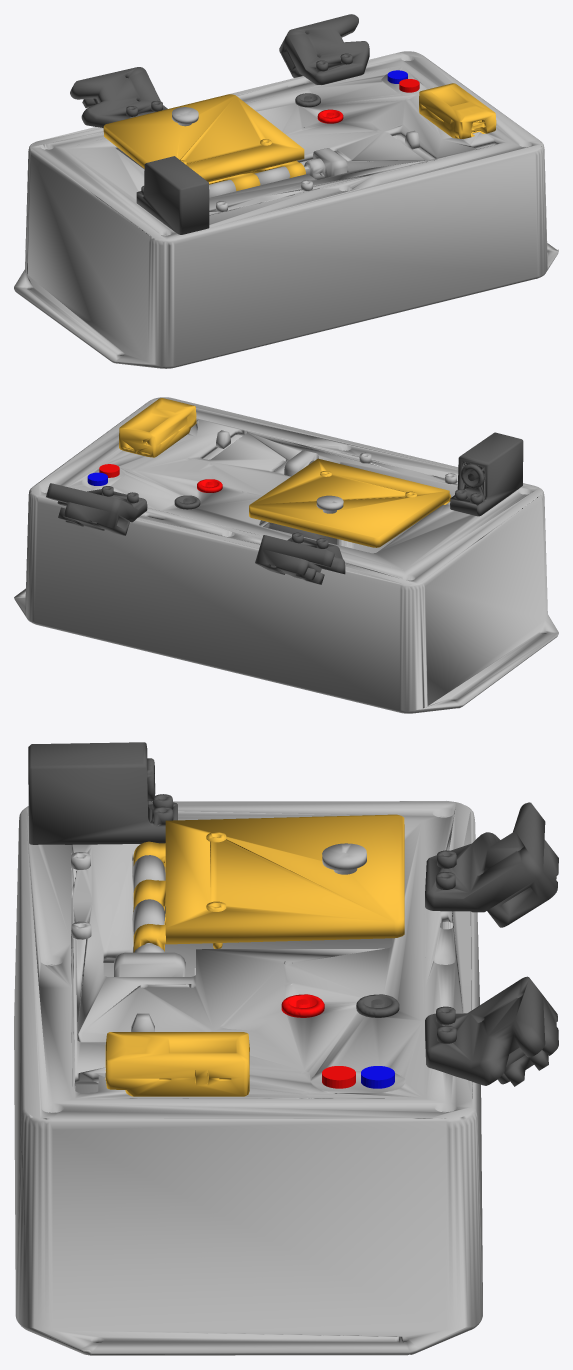
Rendered from task_board_main.fbx.
The picture shows the model from 3 angles, top to bottom: view 1: azimuth 30°, elevation 25°; view 2: azimuth 150°, elevation 25°; view 3: azimuth 270°, elevation 25°; orthographic projection. The views are drawn at different scales.
Visible parts, largest first — view 1: task_board_body, task_board_lid, task_board_cable_wrap_post_left, task_board_banana_pug_port, task_board_cable_wrap_post_right, task_board_m5_stick_c; view 2: task_board_body, task_board_lid, task_board_banana_pug_port, task_board_cable_wrap_post_left, task_board_m5_stick_c, task_board_cable_wrap_post_right, task_board_lid_knob; view 3: task_board_body, task_board_lid, task_board_banana_pug_port, task_board_cable_wrap_post_right, task_board_cable_wrap_post_left, task_board_m5_stick_c, task_board_lid_knob, task_board_banana_plug_black, task_board_banana_plug_red.
Boxes of the visible parts, x1=… form: task_board_body: x1=14, y1=51, x2=558, y2=368; task_board_lid: x1=103, y1=94, x2=305, y2=191; task_board_cable_wrap_post_left: x1=279, y1=14, x2=369, y2=84; task_board_banana_pug_port: x1=136, y1=156, x2=209, y2=234; task_board_cable_wrap_post_right: x1=70, y1=67, x2=167, y2=127; task_board_m5_stick_c: x1=419, y1=83, x2=496, y2=138; task_board_body: x1=14, y1=397, x2=558, y2=713; task_board_lid: x1=249, y1=458, x2=451, y2=547; task_board_banana_pug_port: x1=450, y1=432, x2=523, y2=516; task_board_cable_wrap_post_left: x1=46, y1=483, x2=147, y2=535; task_board_m5_stick_c: x1=119, y1=398, x2=196, y2=457; task_board_cable_wrap_post_right: x1=255, y1=532, x2=345, y2=584; task_board_lid_knob: x1=316, y1=495, x2=343, y2=513; task_board_body: x1=14, y1=801, x2=482, y2=1355; task_board_lid: x1=133, y1=814, x2=404, y2=952; task_board_banana_pug_port: x1=28, y1=742, x2=177, y2=844; task_board_cable_wrap_post_right: x1=425, y1=802, x2=558, y2=927; task_board_cable_wrap_post_left: x1=425, y1=976, x2=558, y2=1086; task_board_m5_stick_c: x1=105, y1=1032, x2=249, y2=1096; task_board_lid_knob: x1=322, y1=843, x2=366, y2=874; task_board_banana_plug_black: x1=356, y1=994, x2=399, y2=1017; task_board_banana_plug_red: x1=281, y1=994, x2=324, y2=1017.
Size of the model in its own units: 28.97 by 10.87 by 18.21.
